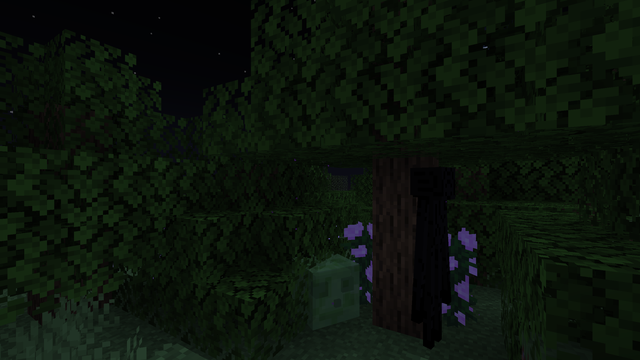endermens: (409, 160, 453, 355)
slimes: (309, 252, 358, 331)
